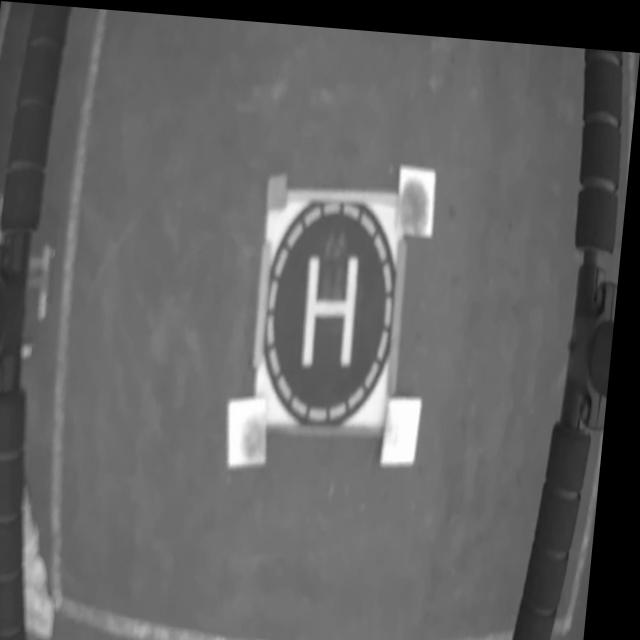Helipad: (307, 250, 363, 360)
